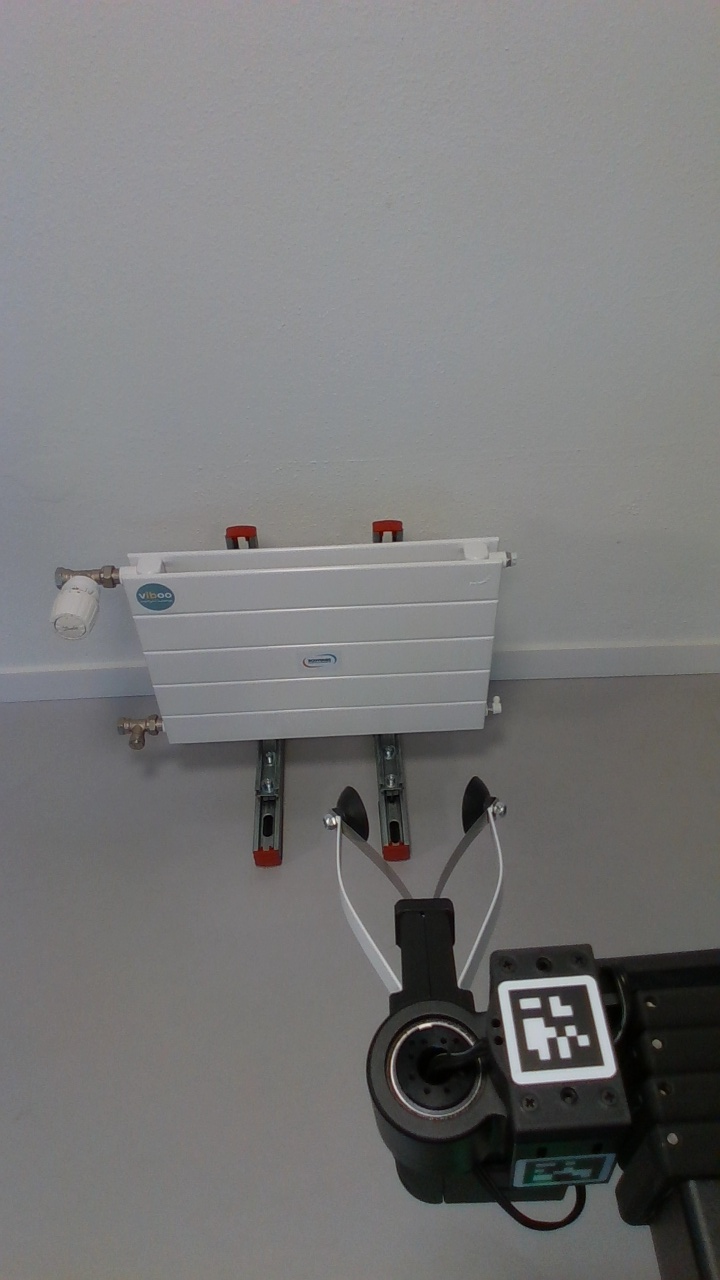Knob_Radiator: (36, 563, 118, 654)
Radiator: (121, 529, 516, 761)
